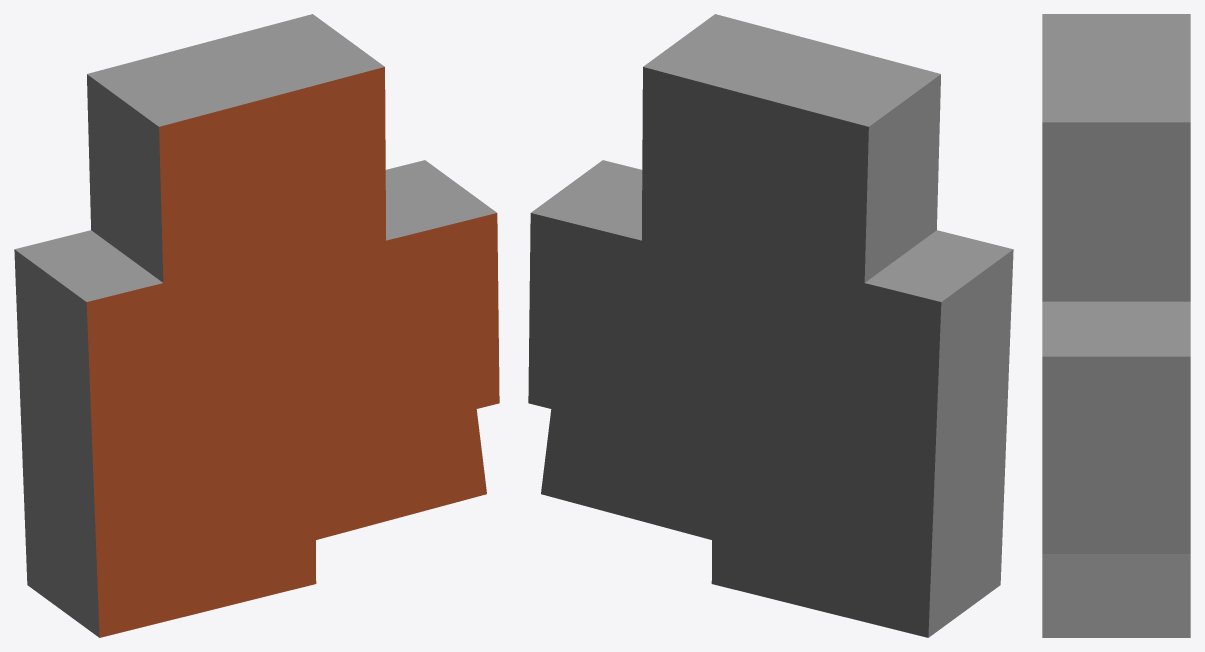
The model's file is construction_7011_assumed_A_Casa_h6m.obj.
3 renders of one model, left to right at view 1: azimuth 30°, elevation 25°; view 2: azimuth 150°, elevation 25°; view 3: azimuth 270°, elevation 25°, orthographic. The views are drawn at different scales.
Parts seen in each view (by area): view 1: construction_7011_assumed_A_Casa; view 2: construction_7011_assumed_A_Casa; view 3: construction_7011_assumed_A_Casa.
Part boxes in pixels (left/top/right/bottom): construction_7011_assumed_A_Casa: left=14, top=14, right=499, bottom=637; construction_7011_assumed_A_Casa: left=528, top=14, right=1013, bottom=637; construction_7011_assumed_A_Casa: left=1042, top=14, right=1190, bottom=637.
Bounding box in the file's own units: 19.8 × 22.98 × 6.
